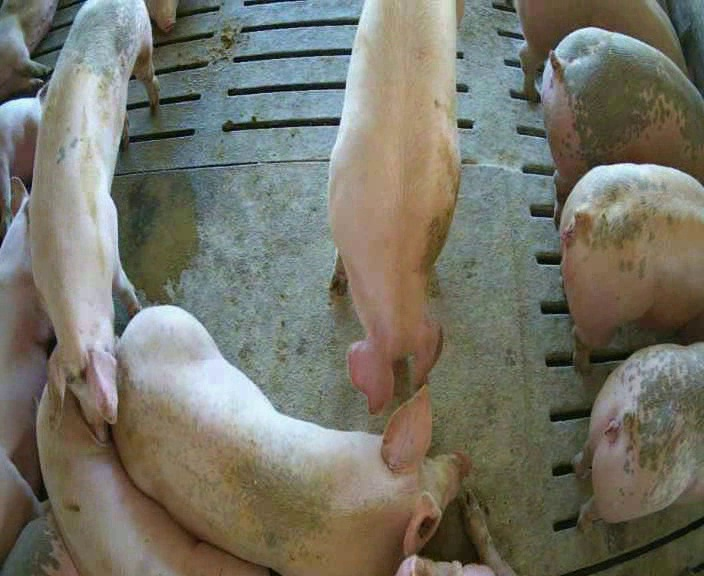pig: (114, 306, 469, 573), (30, 2, 158, 442), (328, 3, 459, 412), (37, 386, 269, 573), (542, 28, 703, 224), (560, 164, 703, 367), (573, 343, 703, 529), (0, 176, 52, 563), (0, 80, 49, 239)
